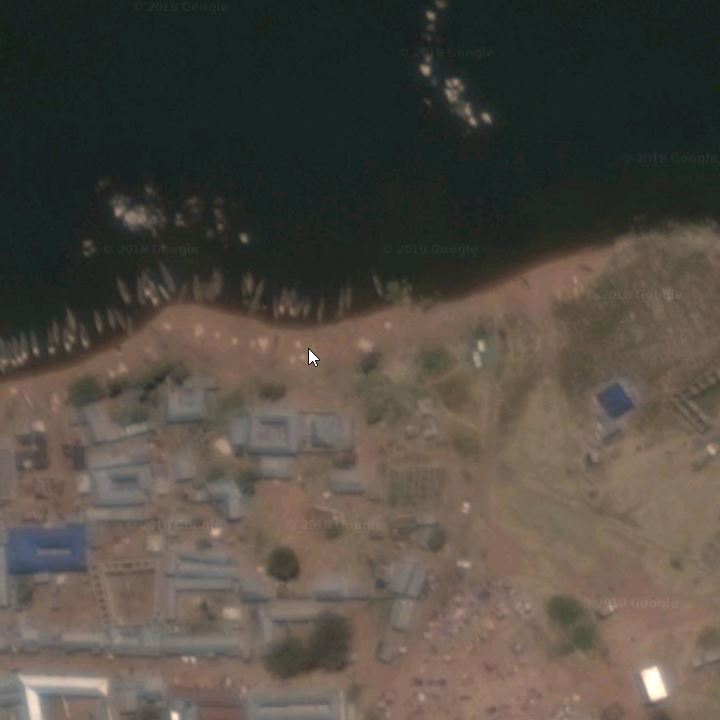boat: (139, 270, 162, 311), (248, 279, 267, 318), (112, 274, 133, 307), (156, 260, 175, 293), (44, 322, 58, 361), (58, 327, 74, 360), (370, 270, 386, 301), (134, 274, 147, 311), (1, 331, 11, 379), (78, 320, 93, 351), (88, 306, 104, 335), (212, 268, 225, 301), (155, 282, 173, 305), (335, 286, 347, 319), (65, 302, 77, 335), (65, 321, 78, 350), (11, 335, 21, 372), (315, 293, 326, 326), (20, 331, 29, 370), (6, 339, 16, 374), (30, 329, 40, 364), (113, 305, 126, 330), (270, 290, 279, 326), (191, 274, 201, 306), (286, 286, 295, 321), (105, 303, 115, 333), (246, 268, 256, 297), (345, 283, 354, 314), (296, 292, 303, 326), (304, 297, 312, 326), (240, 270, 247, 301), (281, 289, 286, 321)
